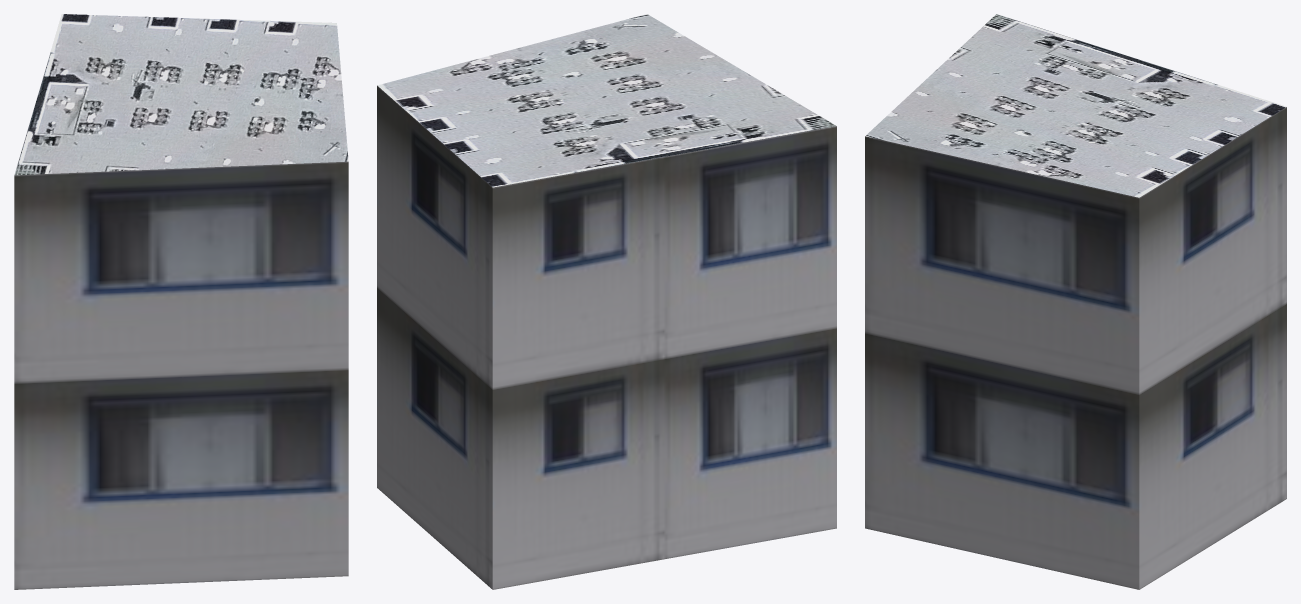
Rendered from ResTex__745.fbx.
3 renders of one model, left to right at view 1: azimuth 30°, elevation 25°; view 2: azimuth 150°, elevation 25°; view 3: azimuth 270°, elevation 25°, orthographic. The views are drawn at different scales.
Visible parts, largest first — view 1: CityEngineMaterial_9_m, CityEngineMaterial_m; view 2: CityEngineMaterial_9_m, CityEngineMaterial_m; view 3: CityEngineMaterial_9_m, CityEngineMaterial_m.
Part boxes in pixels (x1,y1,x2,y2): CityEngineMaterial_9_m: [14, 161, 348, 589]; CityEngineMaterial_m: [14, 14, 348, 175]; CityEngineMaterial_9_m: [377, 85, 836, 589]; CityEngineMaterial_m: [377, 14, 836, 187]; CityEngineMaterial_9_m: [865, 107, 1286, 589]; CityEngineMaterial_m: [865, 14, 1286, 197].
Size of the model in its own units: 6.03 by 6 by 5.85.
Materials: 2 (2 with a texture image).
